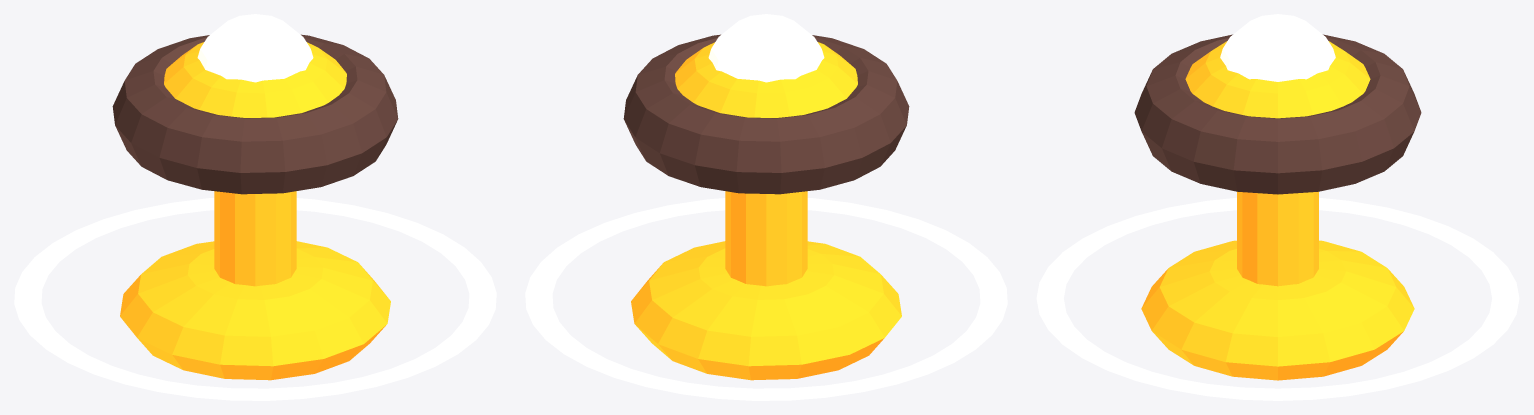
The model's file is fx_nuke_blast.glb.
3 renders of one model, left to right at view 1: azimuth 30°, elevation 25°; view 2: azimuth 150°, elevation 25°; view 3: azimuth 270°, elevation 25°, orthographic.
Parts seen in each view (by area): view 1: fx_nuke_blast; view 2: fx_nuke_blast; view 3: fx_nuke_blast.
Part boxes in pixels (x1,y1,x2,y2): fx_nuke_blast: [14, 14, 496, 400]; fx_nuke_blast: [525, 14, 1007, 400]; fx_nuke_blast: [1036, 14, 1519, 400].
Bounding box in the file's own units: 2.12 × 1.61 × 2.12.
